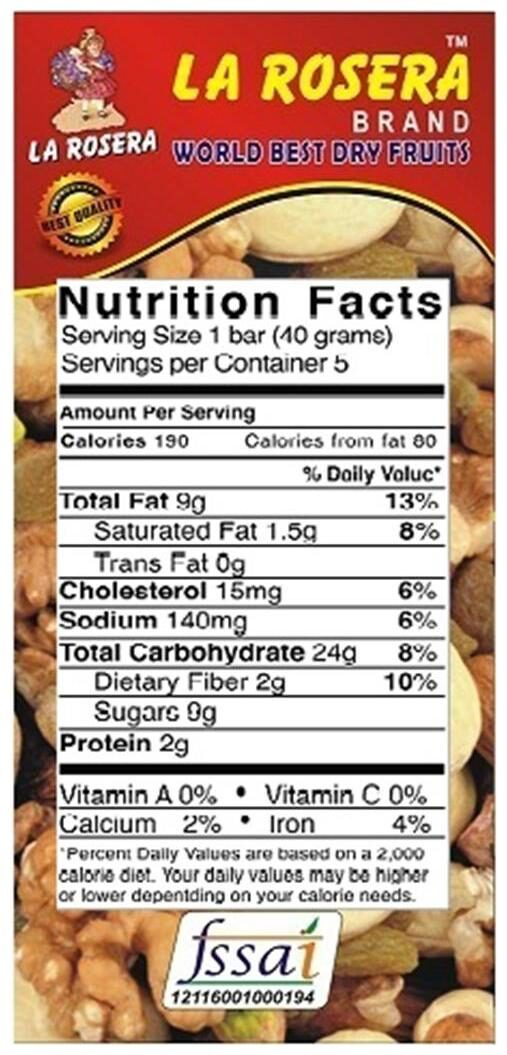fssai: (176, 916, 325, 984)
